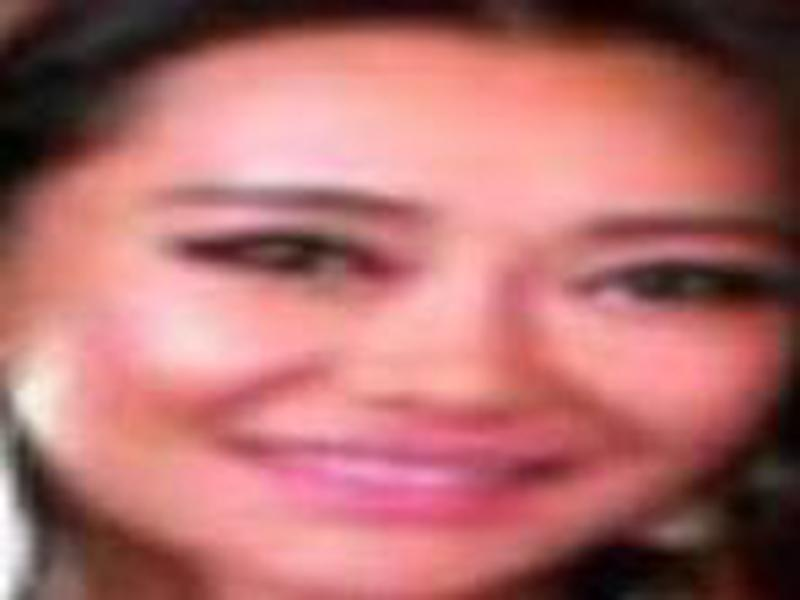without_mask: (57, 50, 772, 599)
